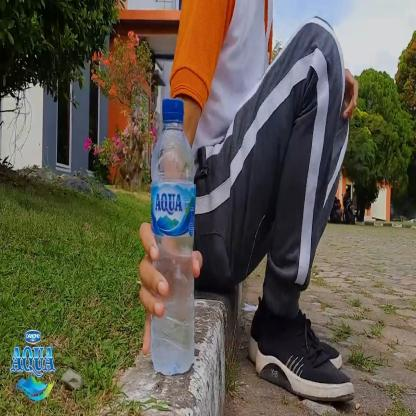plastic_bottles: (142, 82, 194, 376)
